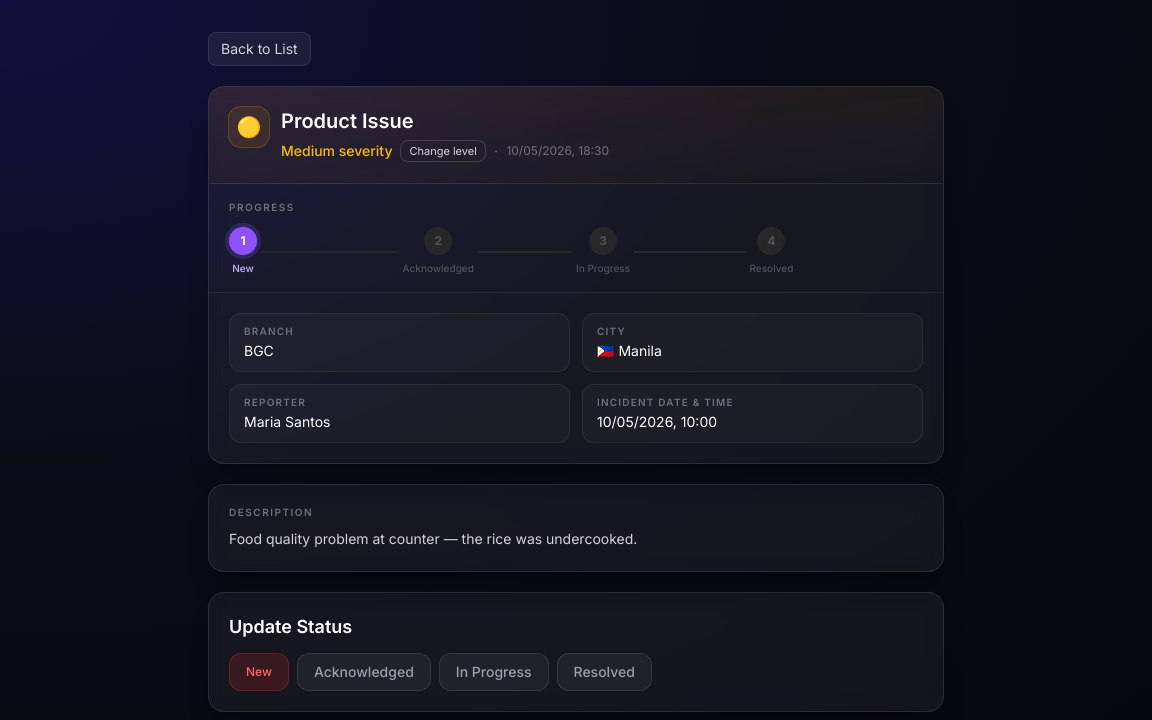
Test case: AdminIncidentDetailPage (detail) › status update › successful status change updates the item state (current button changes)
Expected: the heading "Product Issue" is shown, [281,109,414,133]
Click the button "Acknowledged".
click(364, 672)  # box [297,653,431,691]
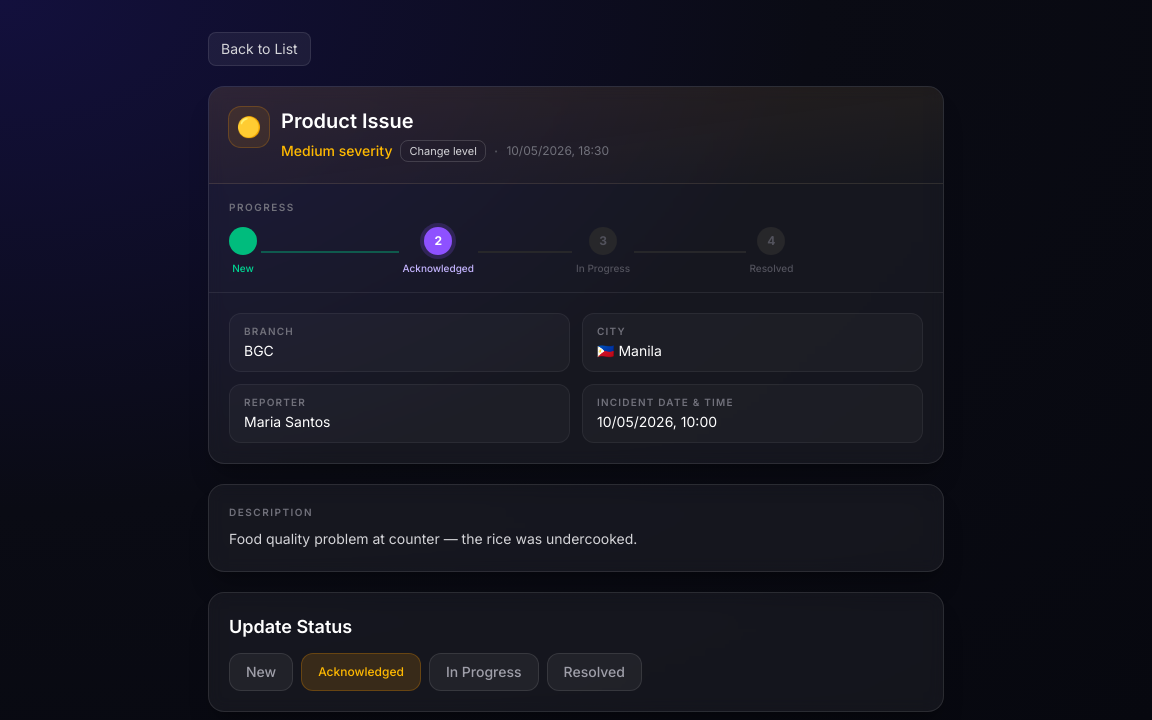
Now the button "Acknowledged" is disabled, box [301,653,421,691]
Now the button "New" is enabled, box [229,653,293,691]
